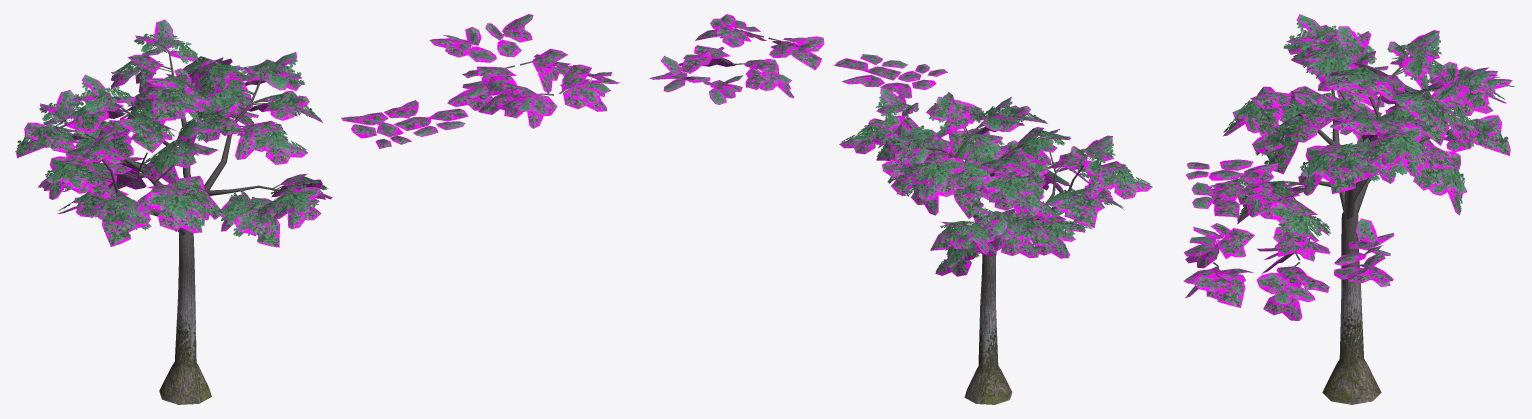
The model's file is tree.fbx.
3 views of the same model, side by side, from view 1: azimuth 30°, elevation 25°; view 2: azimuth 150°, elevation 25°; view 3: azimuth 270°, elevation 25° (orthographic). The views are drawn at different scales.
Parts seen in each view (by area): view 1: Quercus_A, Branch_3, Branch_3B, Branch_2, Branch_4.004, Branch_2B.003, Branch_2B.004, Plane.007, Branch_1, Branch_3B.004, Branch_1B, Branch_4.006 (+36 smaller); view 2: Quercus_A, Branch_2, Branch_3, Branch_3B, Branch_2.001, Branch_2.003, Branch_2B.007, Branch_2B.008, Branch_3.007, Branch_2B, Plane.032, Branch_4.003 (+35 smaller); view 3: Quercus_A, Branch_2B, Branch_3, Branch_3B, Branch_2B.004, Branch_2.004, Branch_2.002, Plane.006, Branch_3.006, Branch_4.002, Branch_1, Branch_2.003 (+47 smaller).
Boxes of the visible parts, box(x1,y1,x2,y2) form: Quercus_A: box(77, 55, 280, 404); Branch_3: box(478, 82, 557, 128); Branch_3B: box(559, 64, 619, 111); Branch_2: box(447, 65, 518, 110); Branch_4.004: box(221, 189, 277, 246); Branch_2B.003: box(235, 120, 307, 164); Branch_2B.004: box(134, 180, 203, 232); Plane.007: box(91, 192, 153, 243); Branch_1: box(429, 27, 496, 62); Branch_3B.004: box(220, 190, 280, 247); Branch_1B: box(485, 14, 533, 57); Branch_4.006: box(140, 140, 216, 174); Quercus_A: box(904, 119, 1083, 404); Branch_2: box(733, 59, 793, 98); Branch_3: box(768, 36, 824, 70); Branch_3B: box(695, 14, 766, 47); Branch_2.001: box(904, 148, 965, 200); Branch_2.003: box(926, 94, 981, 138); Branch_2B.007: box(1081, 161, 1152, 199); Branch_2B.008: box(979, 171, 1042, 212); Branch_3.007: box(903, 151, 965, 197); Branch_2B: box(679, 45, 735, 73); Plane.032: box(981, 174, 1043, 208); Branch_4.003: box(956, 128, 1004, 163); Quercus_A: box(1277, 64, 1443, 404); Branch_2B: box(1256, 262, 1329, 320); Branch_3: box(1184, 223, 1254, 268); Branch_3B: box(1183, 262, 1253, 307); Branch_2B.004: box(1223, 86, 1300, 136); Branch_2.004: box(1362, 125, 1430, 177); Branch_2.002: box(1413, 144, 1467, 215); Plane.006: box(1320, 137, 1390, 191); Branch_3.006: box(1320, 139, 1388, 193); Branch_4.002: box(1391, 91, 1456, 142); Branch_1: box(1334, 218, 1394, 265); Branch_2.003: box(1325, 62, 1396, 101).
Size of what is drawn, in the model's own units: 19.91 by 11.65 by 9.92.
2 materials, 2 textured.
